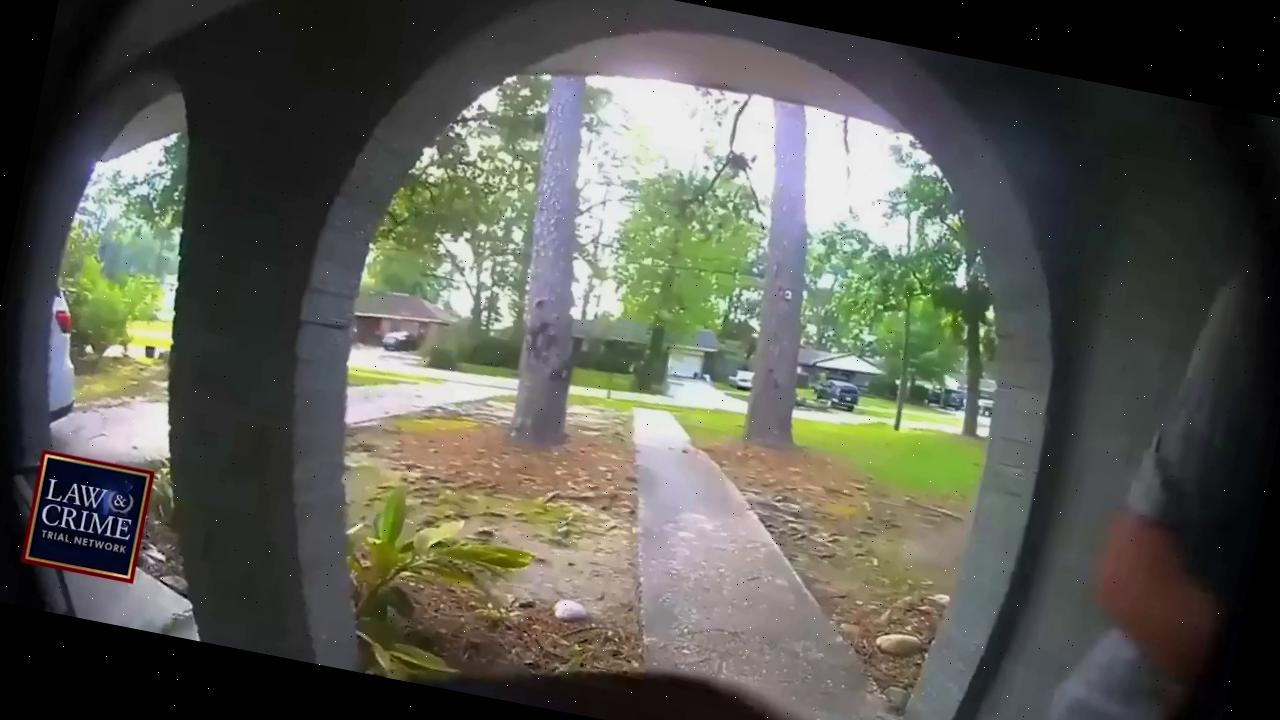suspicion: (966, 112, 1280, 720)
